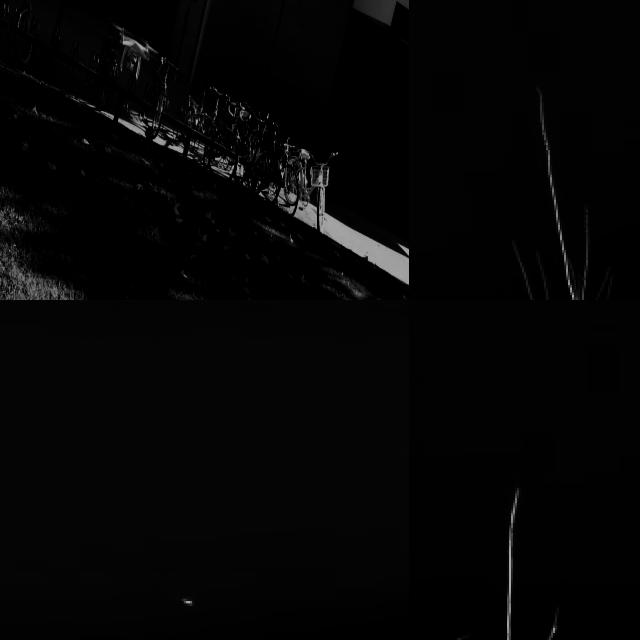0: (632, 181, 640, 211)
1: (173, 591, 205, 621)
drone: (109, 33, 160, 79)
